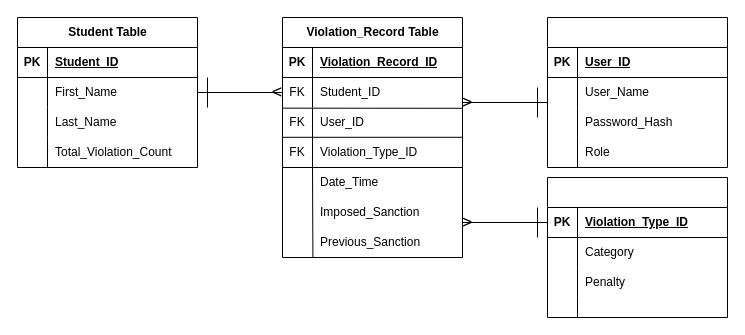
The diagram is 745 pixels wide and 335 high, and some of its shapes have lost their labels. The box of each missing label's shape, as (x1, y1, x2, y2) in pixels:
User Table: (546, 16, 728, 168)
Violation_Type Table: (546, 176, 728, 318)
